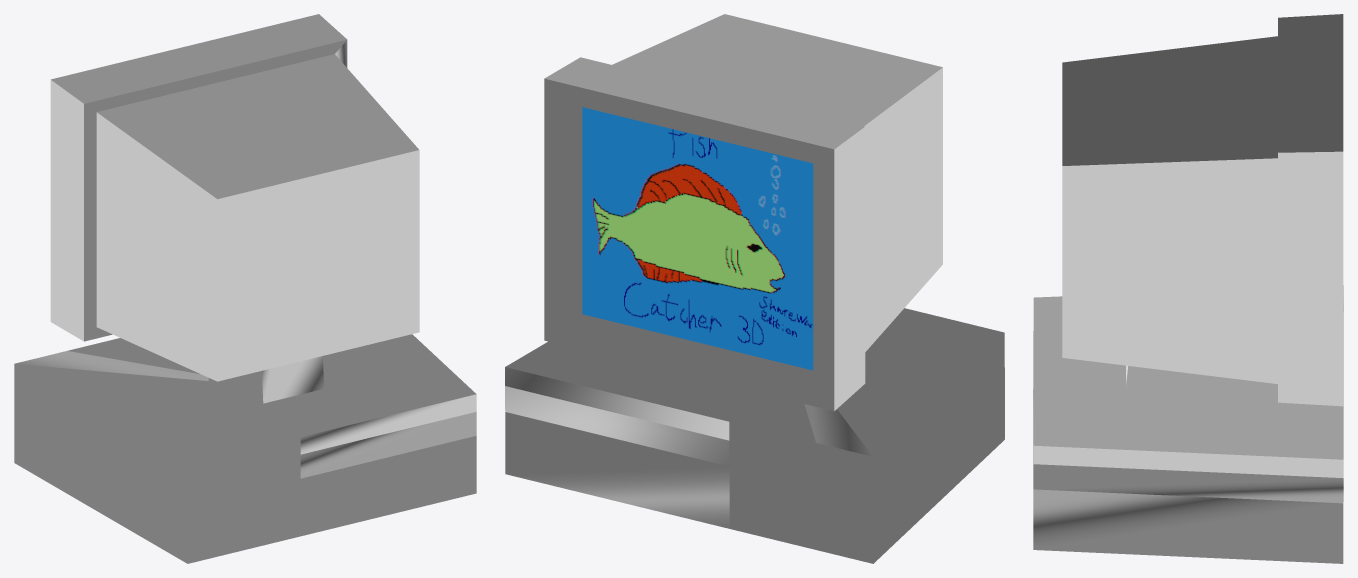
The model's file is sophia.glb.
3 renders of one model, left to right at view 1: azimuth 30°, elevation 25°; view 2: azimuth 150°, elevation 25°; view 3: azimuth 270°, elevation 25°, orthographic. The views are drawn at different scales.
Parts seen in each view (by area): view 1: Sophia; view 2: Sophia; view 3: Sophia.
Boxes of the visible parts, <box> form: Sophia: <box>14,14,476,563</box>; Sophia: <box>505,14,1004,563</box>; Sophia: <box>1033,14,1343,563</box>.
Bounding box in the file's own units: 1.04 × 1.09 × 0.7811.
Materials: 2 (1 with a texture image).
